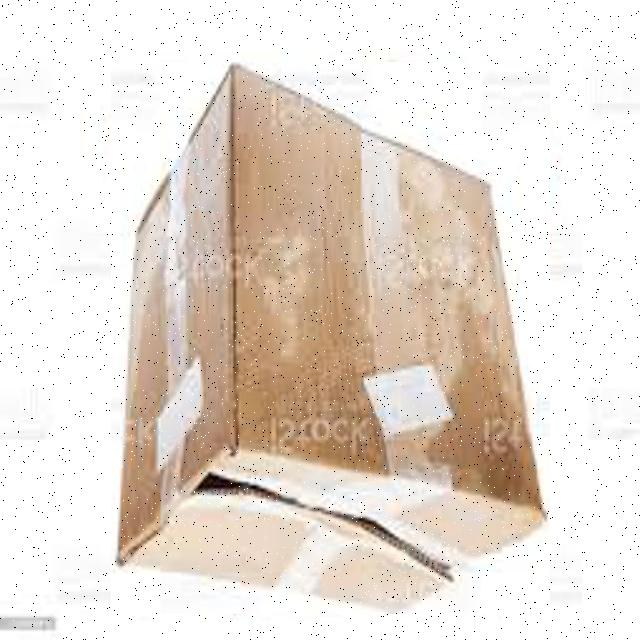defect: (111, 62, 550, 614)
